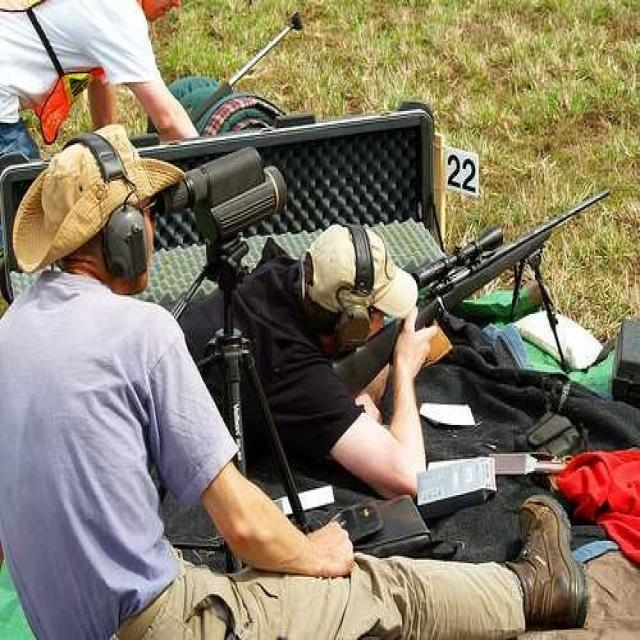weapon: (323, 152, 624, 428)
